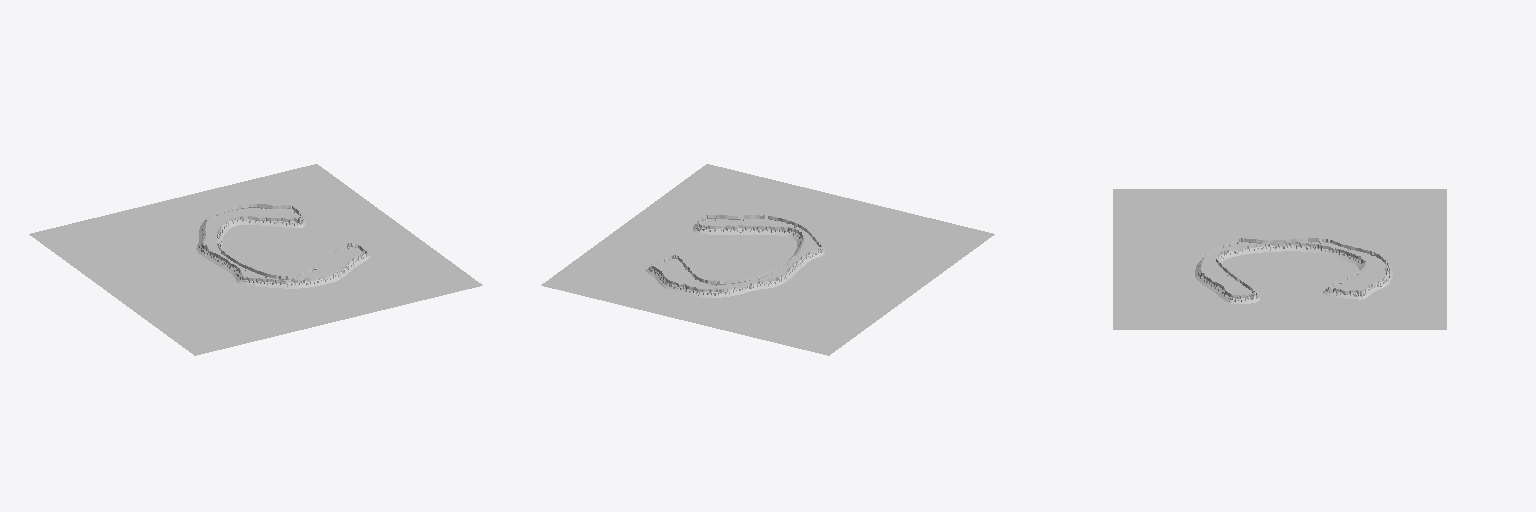
3 renders of one model, left to right at view 1: azimuth 30°, elevation 25°; view 2: azimuth 150°, elevation 25°; view 3: azimuth 270°, elevation 25°, orthographic.
Visible parts, largest first — view 1: Plane, Wall_01, Wall_06; view 2: Plane, Wall_04, Wall_09; view 3: Plane, Wall_05.
Boxes of the visible parts, x1,y1,x2,y2 form: Plane: [29, 164, 482, 355]; Wall_01: [240, 275, 319, 288]; Wall_06: [217, 216, 280, 242]; Plane: [541, 164, 994, 355]; Wall_04: [737, 225, 803, 249]; Wall_09: [707, 277, 781, 297]; Plane: [1113, 189, 1446, 329]; Wall_05: [1246, 242, 1333, 255].
Size of the model in its own units: 1400 by 35.69 by 1400.